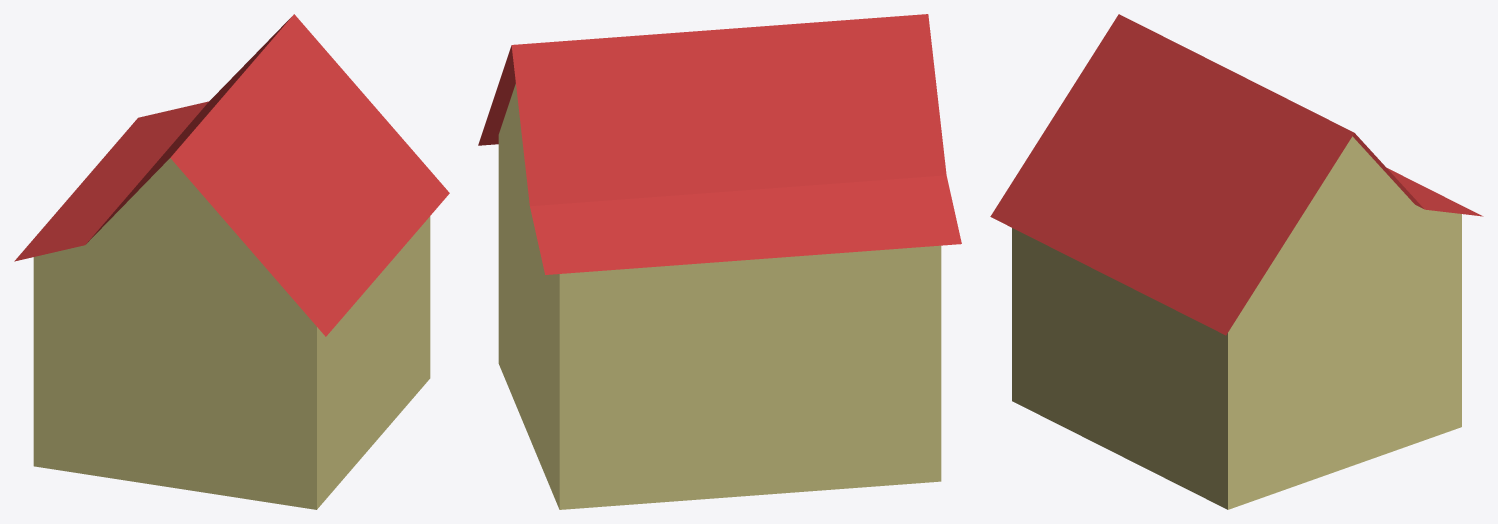
3 views of the same model, side by side, from view 1: azimuth 30°, elevation 25°; view 2: azimuth 150°, elevation 25°; view 3: azimuth 270°, elevation 25° (orthographic). The views are drawn at different scales.
Size of the model in its own units: 16.17 by 16.04 by 12.23.
